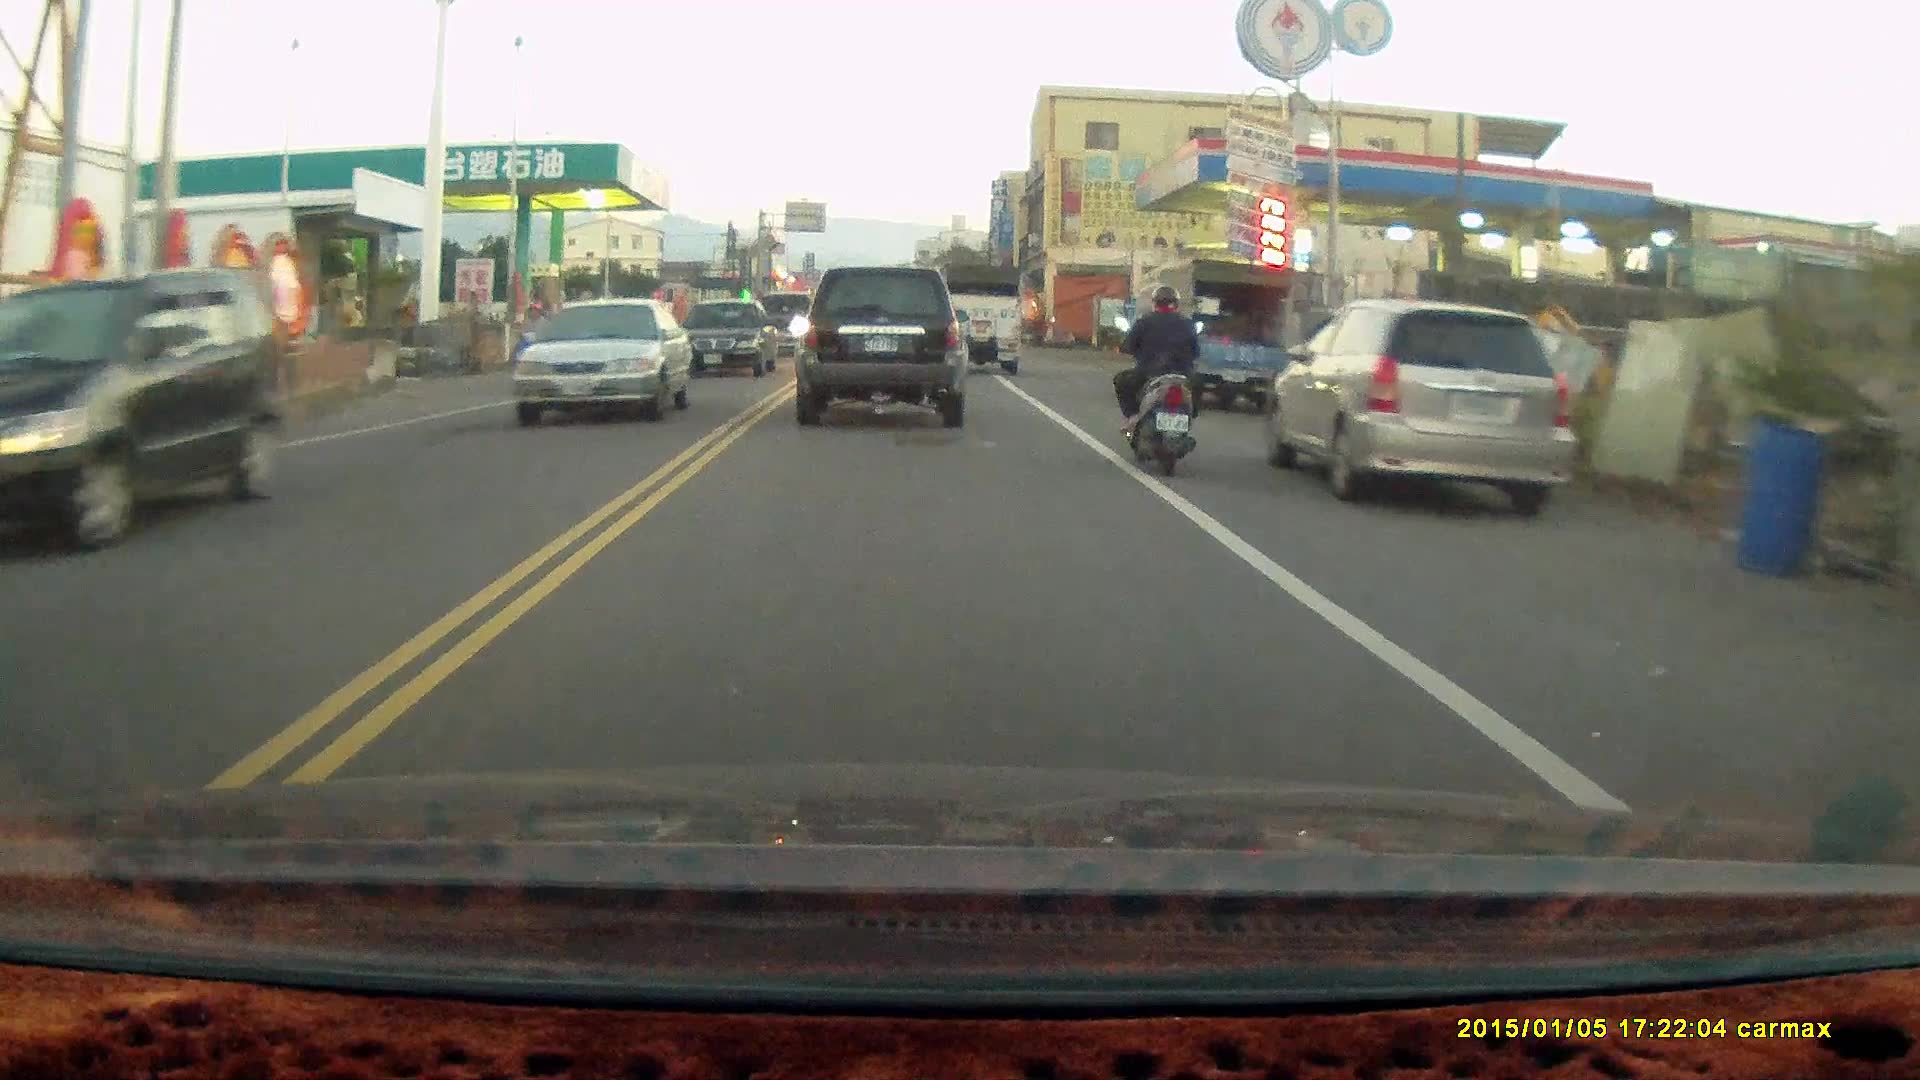rider: (1109, 282, 1206, 473)
vehicle: (2, 271, 299, 559), (1270, 296, 1574, 519), (796, 264, 970, 426), (509, 295, 695, 427), (1134, 257, 1289, 408), (937, 259, 1021, 374), (679, 297, 778, 374)
